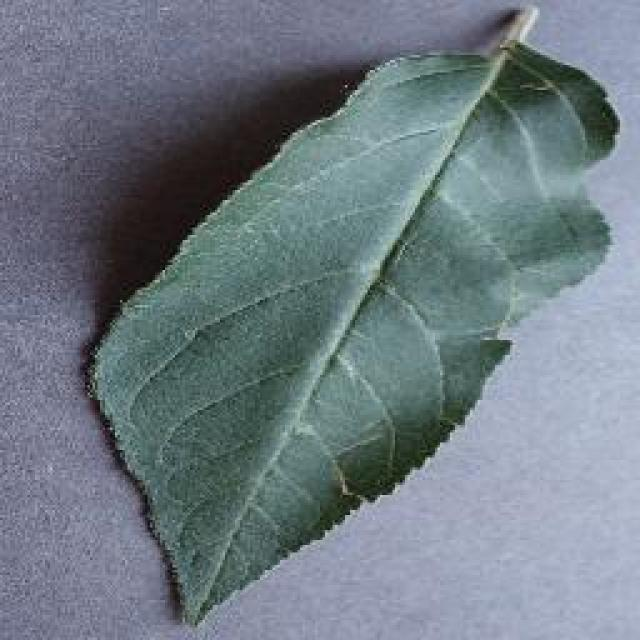apple healthy: (82, 0, 620, 628)
